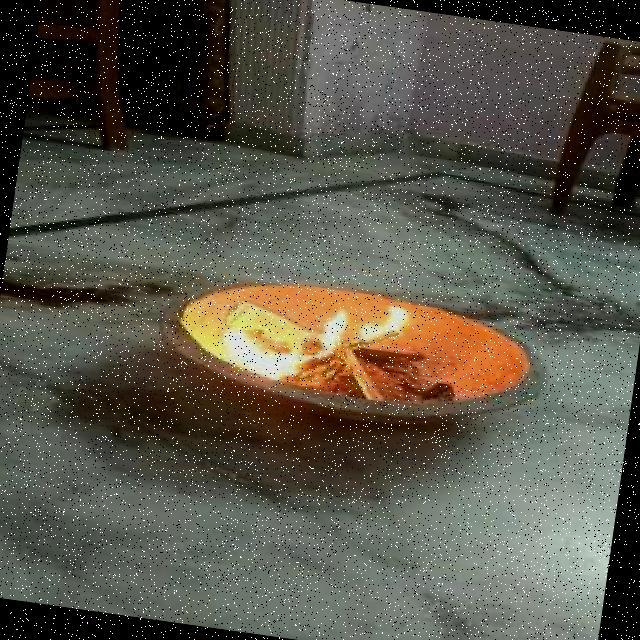Fire: (215, 273, 426, 408)
